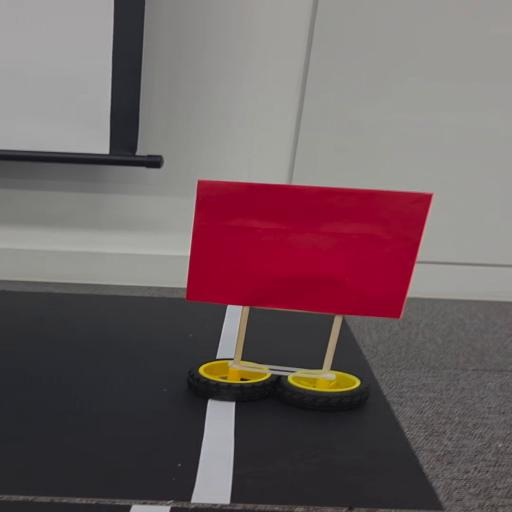Sign_A: (174, 176, 443, 409)
